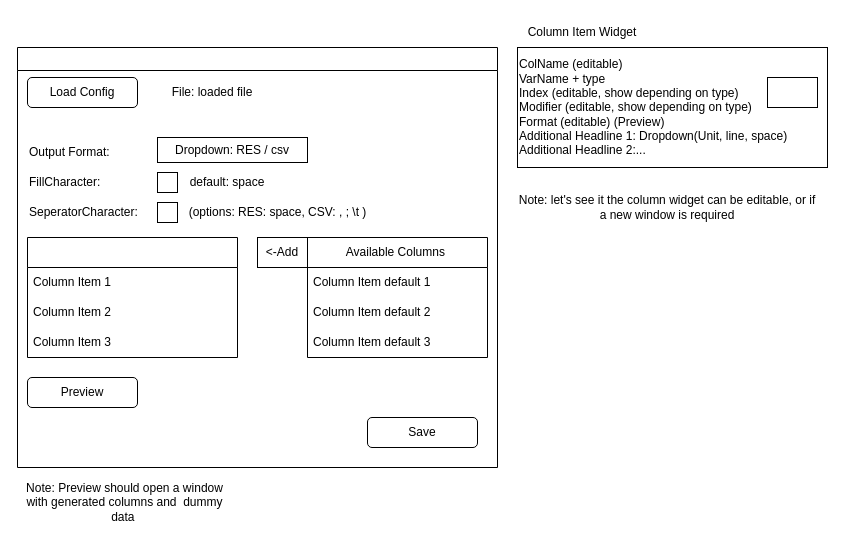
Some shapes in this 845 by 541 pixel diagram are drawn without their labels. Here are the shapes that lost their labels. From the top down, the box of each, then its label:
(766, 76, 818, 108): remove icon
(16, 46, 498, 468): main app container for editor
(26, 236, 238, 358): Columns
